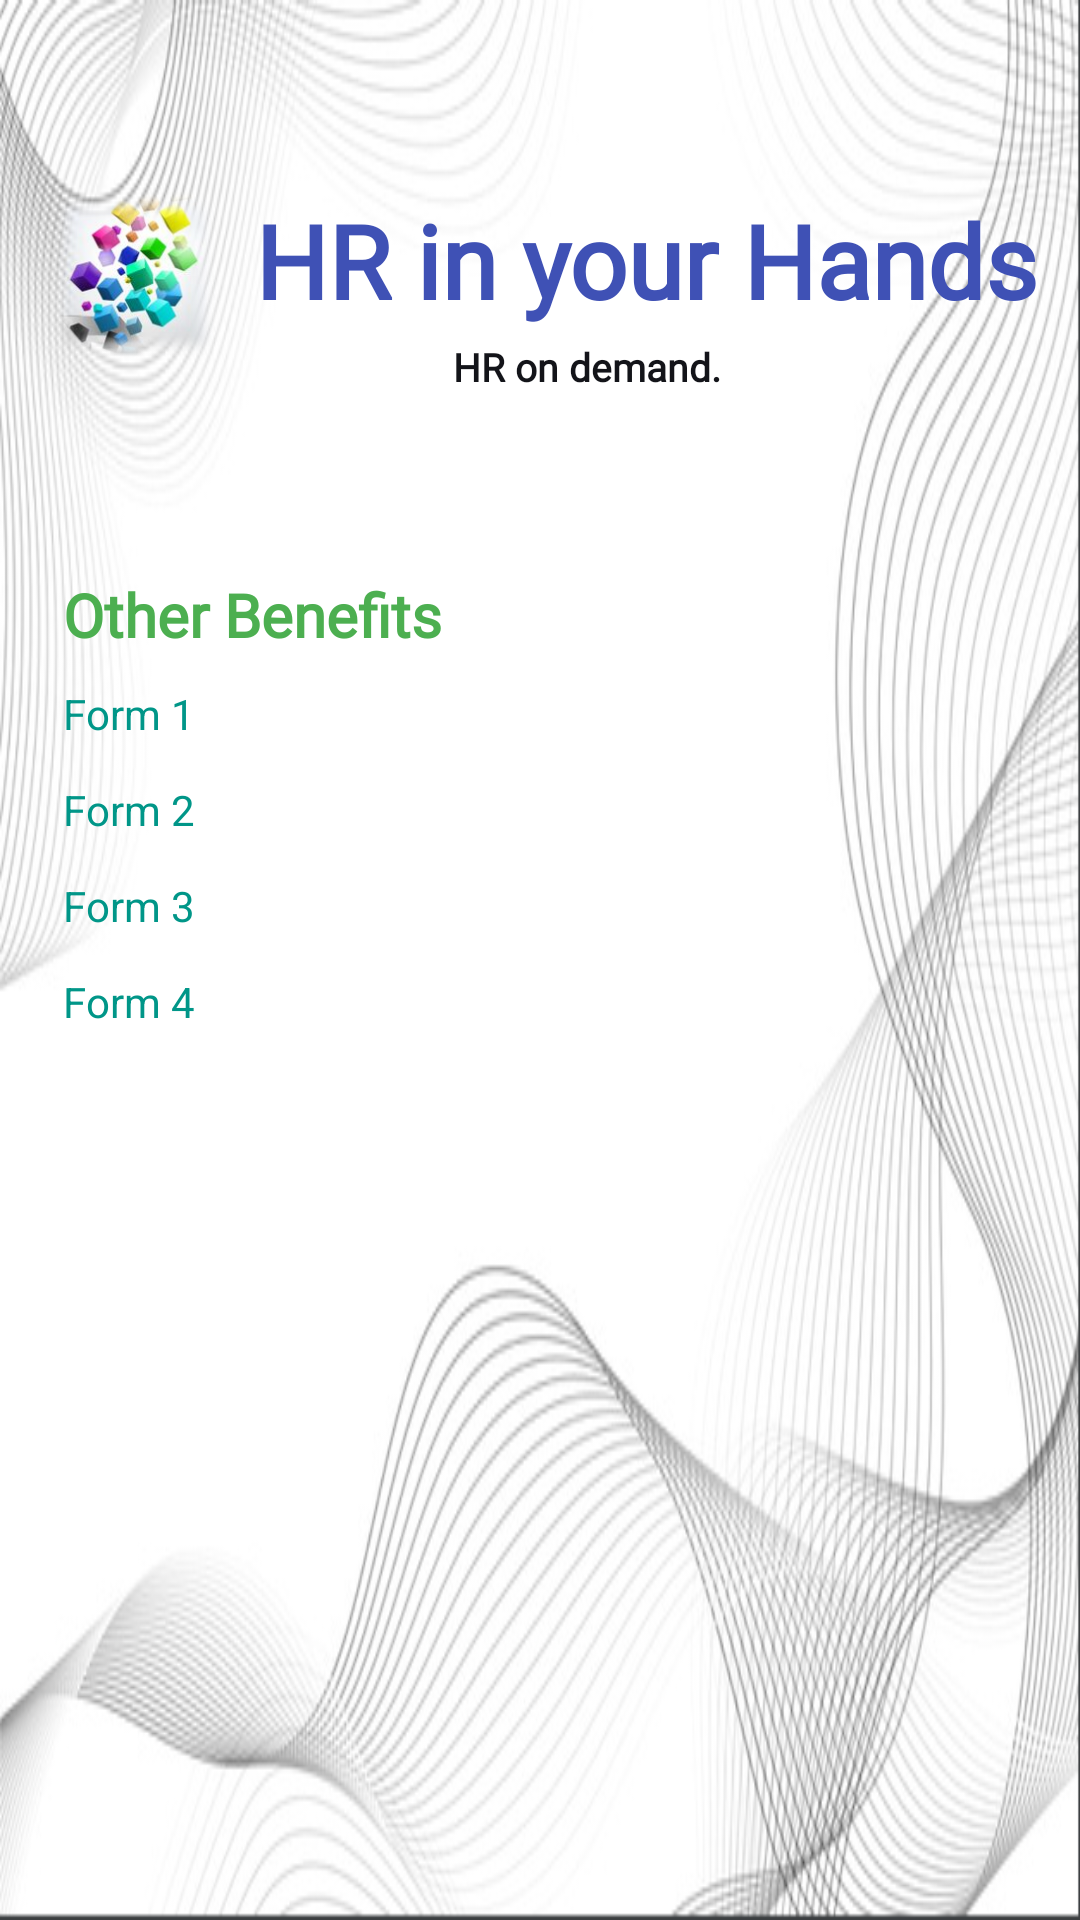

Where to tap for icons on this 1080*1920 app screen, as (x,y):
blocks: (134,276)
